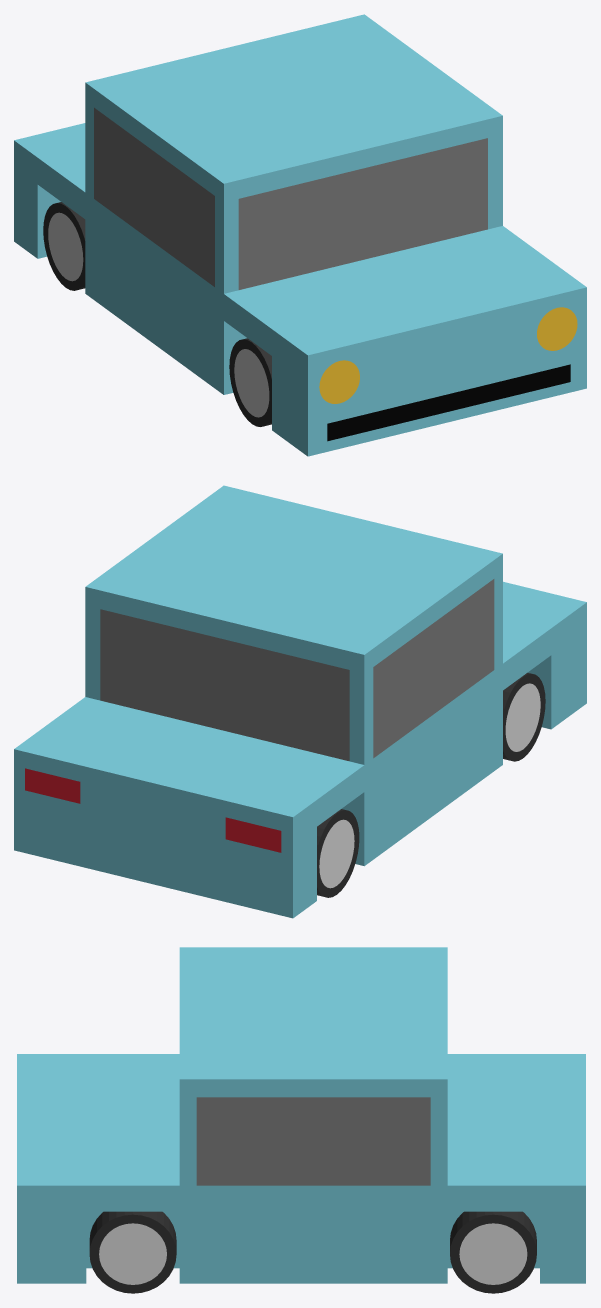
The model's file is car.glb.
The picture shows the model from 3 angles, top to bottom: view 1: azimuth 30°, elevation 25°; view 2: azimuth 150°, elevation 25°; view 3: azimuth 270°, elevation 25°; orthographic projection. The views are drawn at different scales.
Visible parts, largest first — view 1: car-body, Cylinder.001, Plane, front-light; view 2: car-body, Cylinder.001, back-light; view 3: car-body, Cylinder.001.
Boxes of the visible parts, x1,y1,x2,y2 form: car-body: (14, 14, 586, 456); Cylinder.001: (43, 202, 271, 426); Plane: (327, 364, 570, 441); front-light: (319, 307, 577, 403); car-body: (14, 485, 586, 918); Cylinder.001: (317, 672, 545, 897); back-light: (25, 768, 281, 852); car-body: (17, 947, 585, 1283); Cylinder.001: (89, 1211, 536, 1293).
Bounding box in the file's own units: 1.02 × 0.7835 × 1.88.
